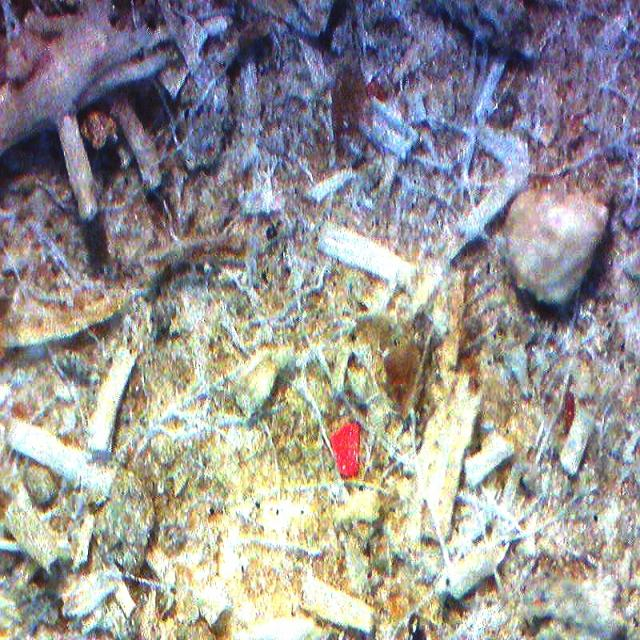microplastic: (330, 420, 360, 477)
